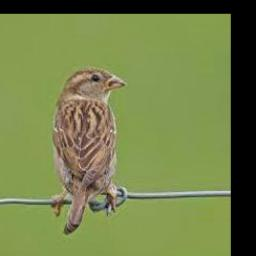Sparrow: (54, 66, 127, 233)
